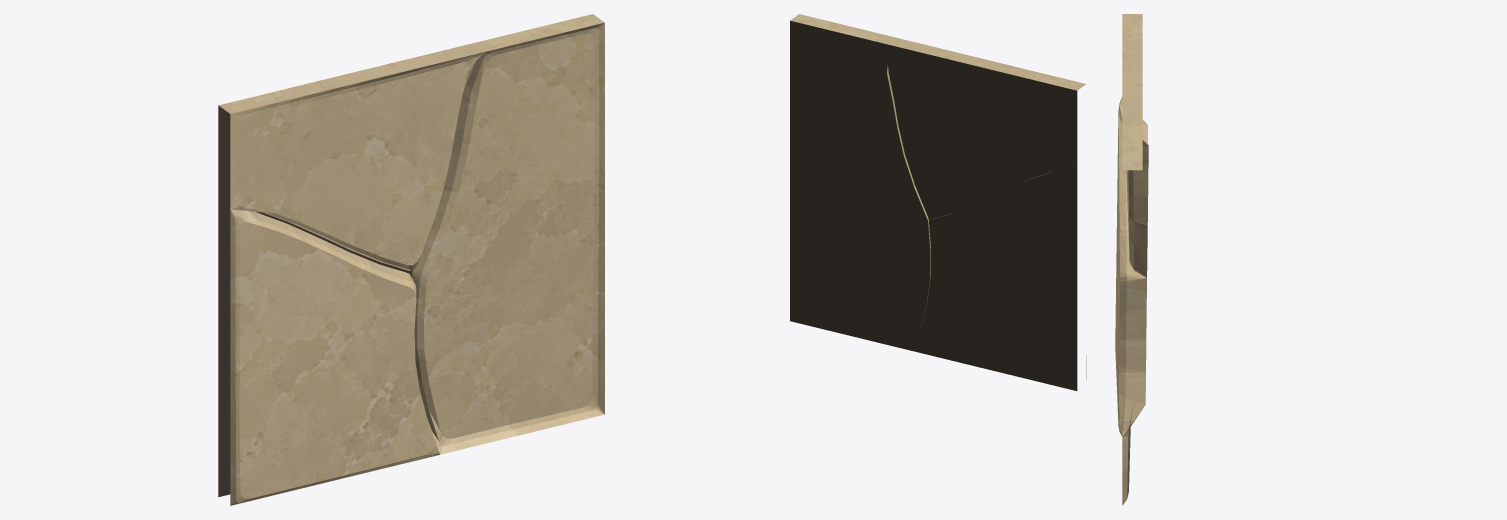
File: ground_square_edge_06.glb
3 views of the same model, side by side, from view 1: azimuth 30°, elevation 25°; view 2: azimuth 150°, elevation 25°; view 3: azimuth 270°, elevation 25° (orthographic). The views are drawn at different scales.
Parts seen in each view (by area): view 1: GroundSquareEdge06_Body; view 2: GroundSquareEdge06_Body; view 3: GroundSquareEdge06_Body.
Boxes of the visible parts, box(x1,y1,x2,y2) form: GroundSquareEdge06_Body: box(218, 14, 604, 505); GroundSquareEdge06_Body: box(790, 14, 1086, 390); GroundSquareEdge06_Body: box(1115, 14, 1148, 505).
Size of the model in its own units: 1 by 1 by 1.02.
5 materials, 4 textured.
